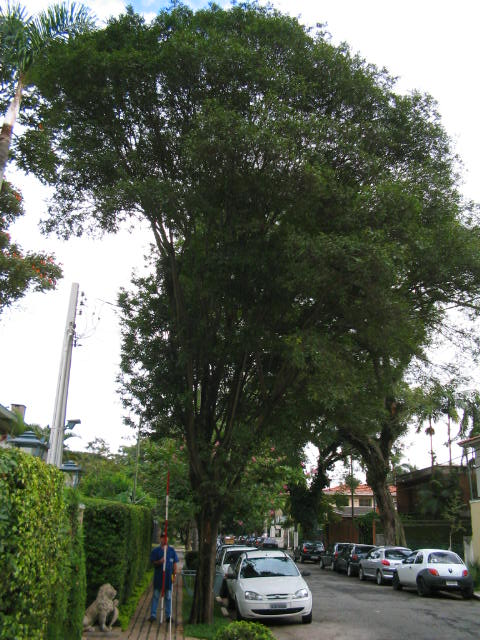crown: (26, 3, 478, 422)
stem: (179, 505, 233, 624)
stick: (150, 469, 177, 622)
tree: (24, 1, 480, 626)
